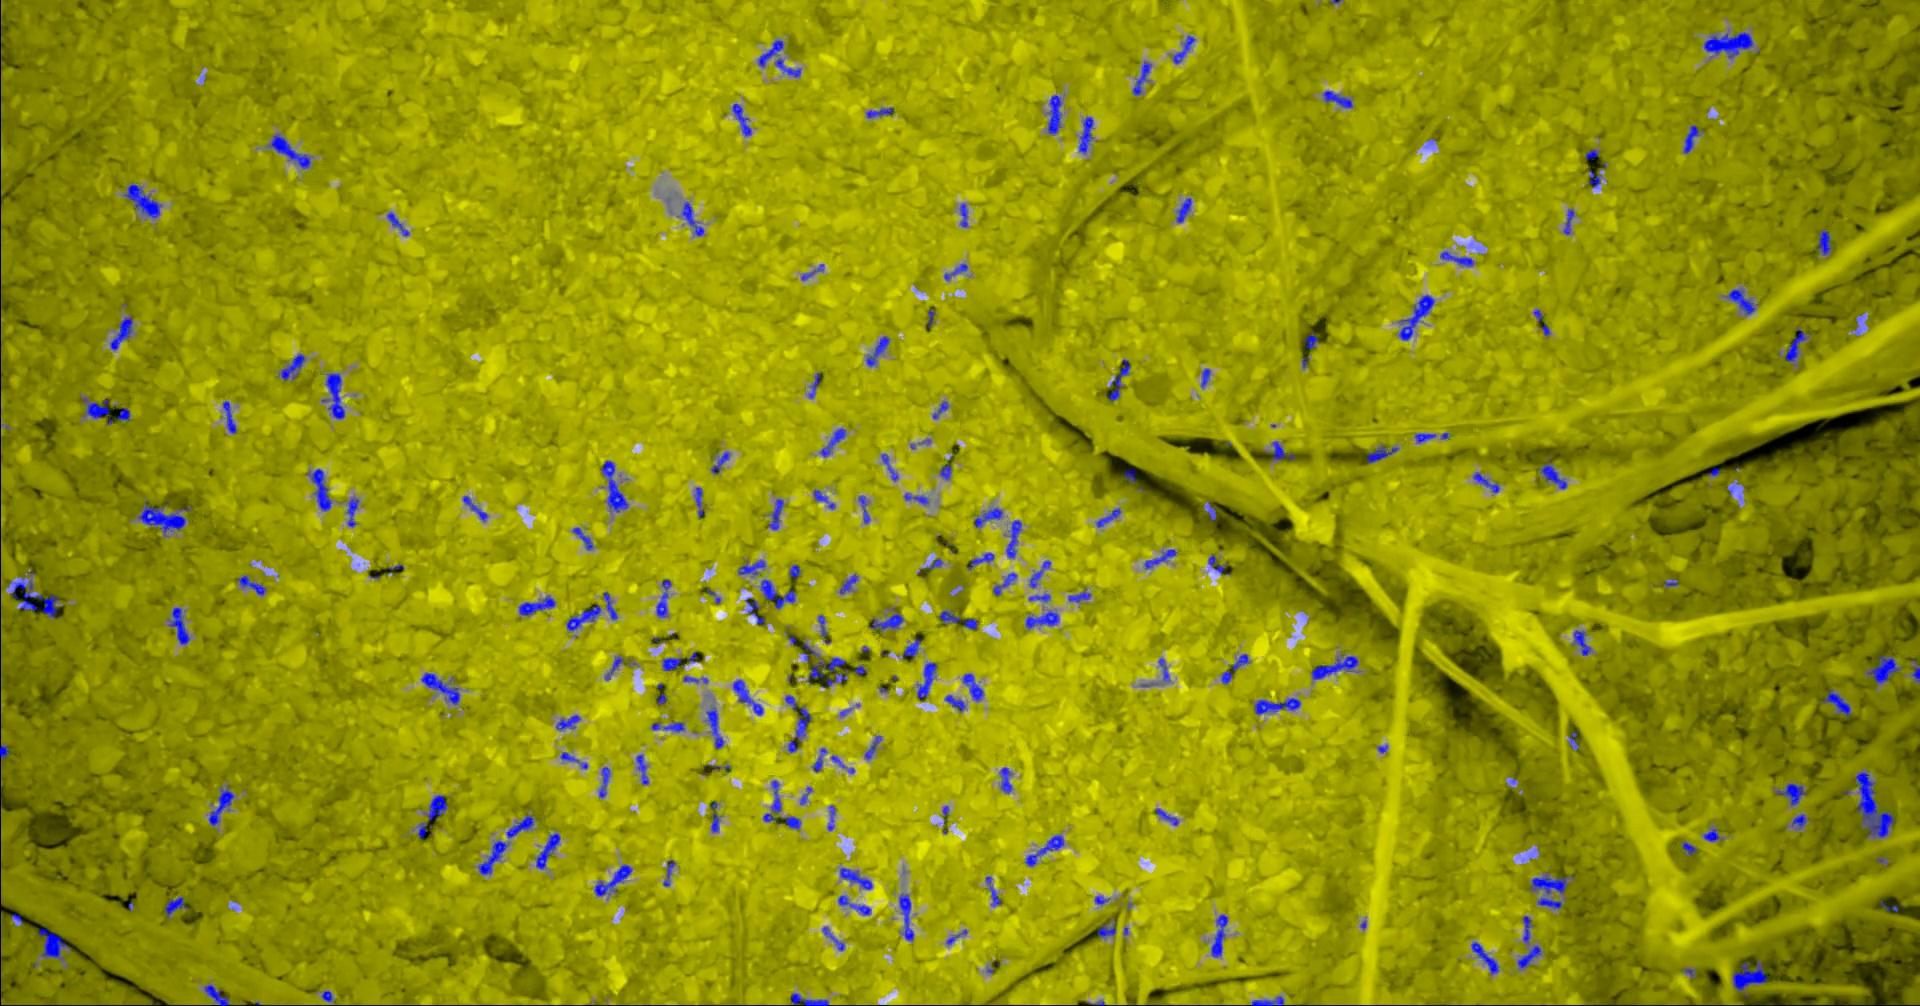ant: (9, 577, 61, 617), (762, 780, 800, 828), (1398, 293, 1434, 340), (138, 500, 190, 532), (783, 695, 810, 752), (599, 460, 629, 511), (268, 133, 310, 168), (1703, 30, 1752, 58), (123, 183, 161, 218), (1529, 875, 1567, 908), (1023, 835, 1063, 866), (420, 672, 458, 704), (593, 864, 631, 895), (1310, 654, 1357, 680), (731, 680, 762, 715), (1732, 960, 1768, 991), (477, 840, 508, 874), (307, 467, 331, 511), (321, 373, 344, 418), (759, 579, 794, 608), (808, 655, 844, 682), (37, 927, 69, 958), (566, 603, 599, 631), (1818, 688, 1851, 716), (1470, 941, 1498, 974), (208, 788, 232, 826), (535, 832, 560, 868), (1867, 655, 1900, 682), (1784, 328, 1810, 361), (869, 607, 903, 631), (1109, 359, 1129, 400), (1220, 654, 1248, 683), (681, 201, 703, 236), (168, 607, 189, 644), (1253, 697, 1300, 714), (109, 316, 132, 349), (518, 594, 555, 615), (916, 662, 936, 699), (757, 39, 783, 67), (1726, 288, 1755, 314), (1540, 459, 1566, 488), (865, 335, 889, 366), (898, 893, 913, 941), (938, 610, 977, 629), (705, 708, 723, 748), (839, 868, 872, 889), (819, 428, 844, 456), (1775, 782, 1806, 805), (1210, 915, 1227, 956), (278, 353, 303, 380), (1131, 61, 1150, 95), (462, 495, 488, 521), (1144, 547, 1176, 568), (1172, 36, 1195, 64), (505, 814, 533, 837), (837, 895, 870, 915), (731, 103, 750, 135), (973, 507, 1002, 527), (1025, 610, 1058, 627), (1366, 445, 1397, 464), (1006, 520, 1021, 558), (1029, 560, 1050, 587), (963, 673, 983, 701), (1078, 116, 1093, 152), (236, 575, 265, 594), (386, 211, 409, 235), (992, 572, 1016, 594), (822, 926, 844, 950), (1048, 94, 1062, 133), (83, 398, 109, 418), (1472, 471, 1498, 492), (657, 579, 670, 617), (1517, 945, 1542, 967), (775, 57, 800, 77), (1095, 507, 1120, 527), (203, 984, 229, 1005), (745, 597, 764, 624), (427, 794, 446, 821), (1322, 90, 1352, 107), (767, 498, 783, 528), (790, 992, 828, 1005), (1439, 251, 1473, 265), (164, 895, 185, 917), (571, 527, 592, 550), (1208, 554, 1230, 574), (1683, 124, 1699, 152), (222, 400, 236, 433), (1271, 441, 1295, 460), (604, 655, 623, 680), (822, 669, 847, 687), (985, 876, 1001, 906), (1533, 309, 1549, 335), (968, 553, 994, 569), (863, 735, 881, 760), (1154, 808, 1178, 826), (737, 559, 764, 574), (602, 591, 617, 619), (1175, 197, 1191, 222), (1573, 630, 1590, 655), (710, 451, 729, 473), (813, 489, 834, 508), (881, 453, 897, 480), (943, 263, 968, 279), (839, 573, 858, 593), (943, 694, 965, 711), (800, 263, 823, 279), (662, 860, 676, 887), (345, 498, 358, 527), (635, 754, 648, 784), (555, 714, 579, 729), (811, 747, 825, 772), (598, 766, 610, 796), (1096, 920, 1115, 937), (1817, 230, 1831, 254), (903, 636, 919, 657), (651, 721, 684, 732), (1250, 995, 1283, 1005), (998, 767, 1011, 793), (857, 495, 869, 523), (808, 372, 819, 398), (903, 493, 928, 504), (1067, 589, 1090, 602), (865, 107, 893, 117), (662, 657, 683, 669), (932, 401, 949, 418), (695, 486, 703, 517), (803, 641, 817, 661), (1158, 658, 1170, 681), (710, 801, 719, 831), (1563, 208, 1573, 234), (938, 459, 951, 479), (1523, 915, 1531, 942), (417, 822, 430, 838), (1680, 841, 1697, 855), (1567, 730, 1578, 749), (1879, 899, 1898, 911), (827, 805, 836, 829), (1790, 813, 1804, 828), (1589, 170, 1601, 187), (1304, 333, 1317, 349), (1703, 828, 1719, 841), (959, 203, 968, 226), (116, 406, 130, 420), (1123, 467, 1135, 483), (1415, 433, 1435, 442), (0, 743, 9, 763), (1911, 659, 1919, 682), (926, 307, 935, 326), (1200, 368, 1209, 387), (1029, 593, 1050, 601), (1208, 502, 1217, 520), (1583, 149, 1597, 159), (789, 564, 799, 577)
